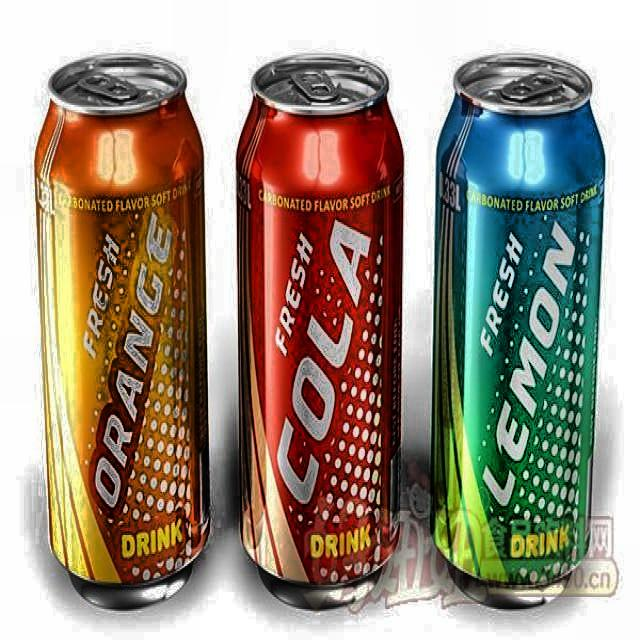can: (24, 40, 220, 622), (429, 47, 612, 609), (234, 45, 406, 614)
